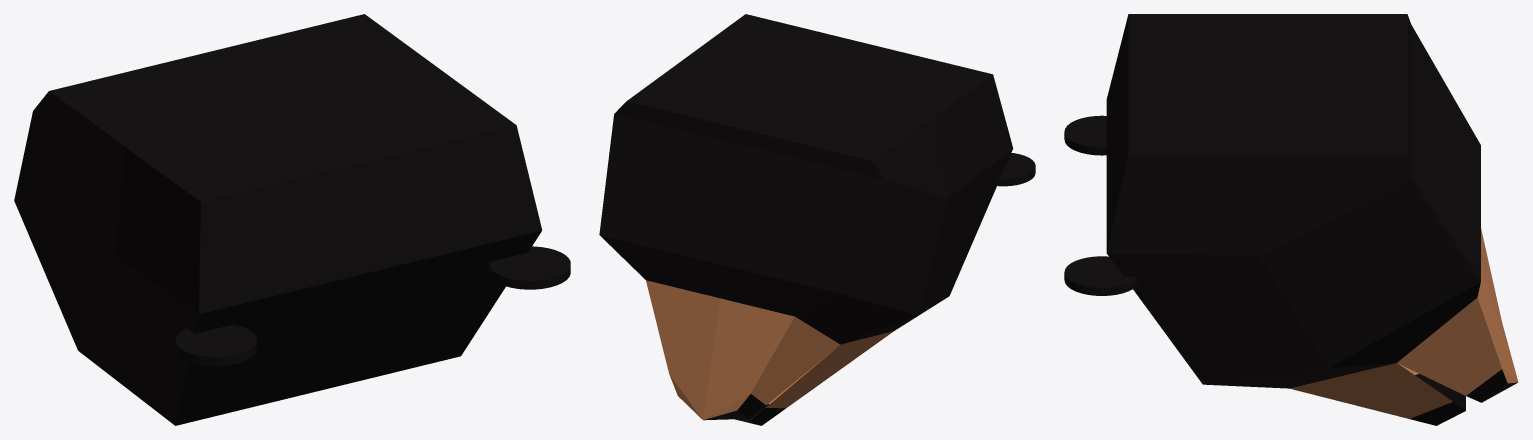
File: Body.001.obj
3 renders of one model, left to right at view 1: azimuth 30°, elevation 25°; view 2: azimuth 150°, elevation 25°; view 3: azimuth 270°, elevation 25°, orthographic. The views are drawn at different scales.
Visible parts, largest first — view 1: Head.C; view 2: Head.C; view 3: Head.C.
Part boxes in pixels (box(x1,y1,x2,y2)): Head.C: box(14, 14, 570, 425); Head.C: box(599, 14, 1035, 425); Head.C: box(1064, 14, 1518, 425).
Size of the model in its own units: 0.2294 by 0.2035 by 0.2555.
